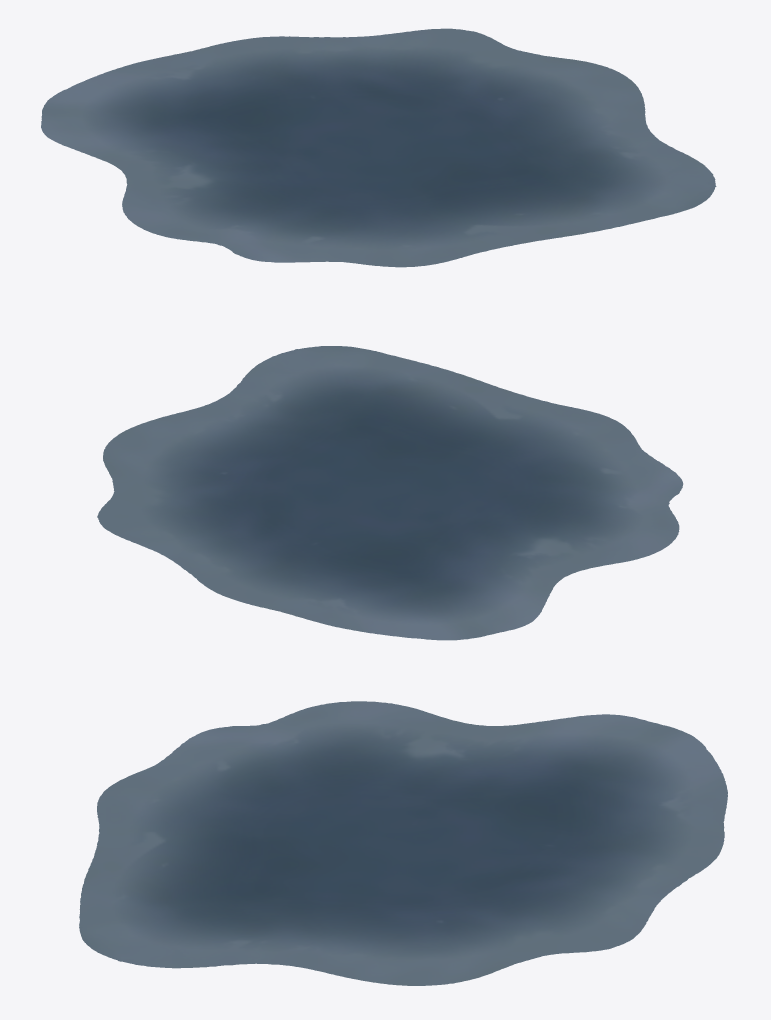
The model's file is fx_map_forest_pool002_rw.FBX.
The picture shows the model from 3 angles, top to bottom: view 1: azimuth 30°, elevation 25°; view 2: azimuth 150°, elevation 25°; view 3: azimuth 270°, elevation 25°; orthographic projection. The views are drawn at different scales.
Visible parts, largest first — view 1: fx_map_forest_pool002; view 2: fx_map_forest_pool002; view 3: fx_map_forest_pool002.
Boxes of the visible parts, x1,y1,x2,y2 form: fx_map_forest_pool002: [41, 28, 716, 267]; fx_map_forest_pool002: [97, 346, 683, 640]; fx_map_forest_pool002: [79, 701, 727, 985].
Size of the model in its own units: 290 by 1.73e-14 by 282.
